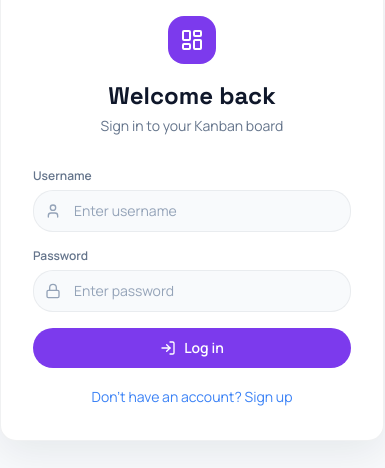
LoginForm › toggles to registration mode
The image size is (385, 468).
Click the button "Don't have an account? Sign up".
click(192, 397)  # box [92,387,292,407]
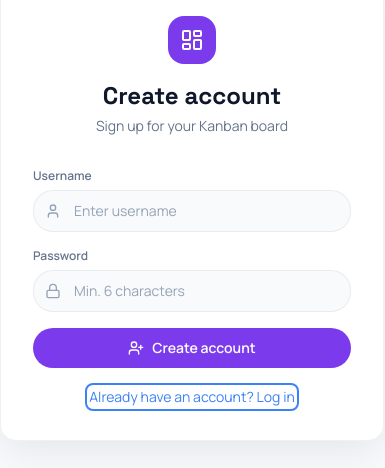
Expected: the button "Create account" is shown, [33,328,351,368]
